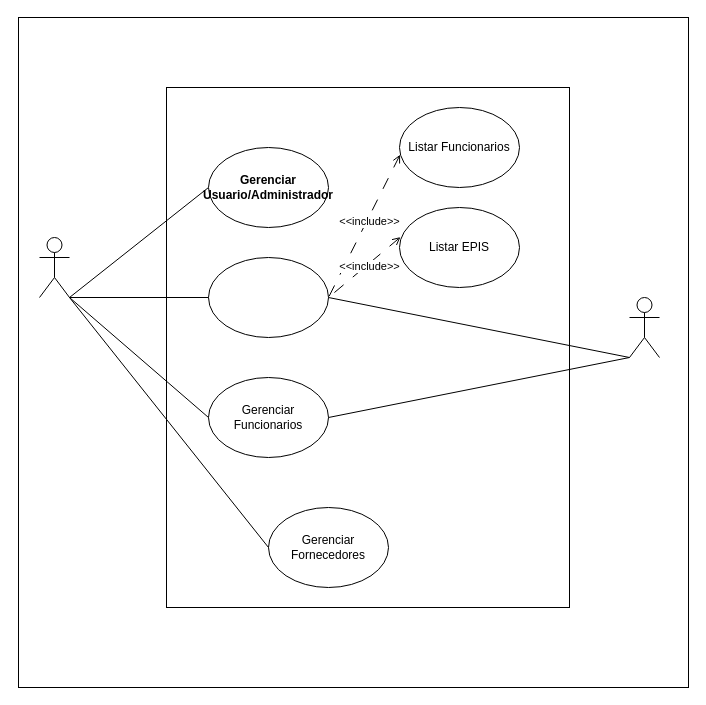
Image size: 706x705. Some labels were removed from this diagram. The shapes that lost their labels are listed below. From the top down, each one's box as (x1, y1, x2, y2) in pixels, then its label:
(38, 236, 70, 298): Administrador
(208, 256, 328, 338): Gerenciar Entregas
(628, 296, 660, 358): Funcionario
